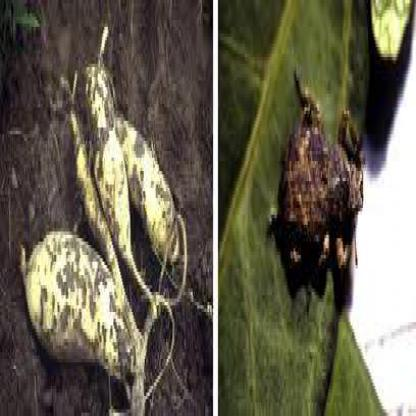ash weevil: (277, 69, 366, 303)
